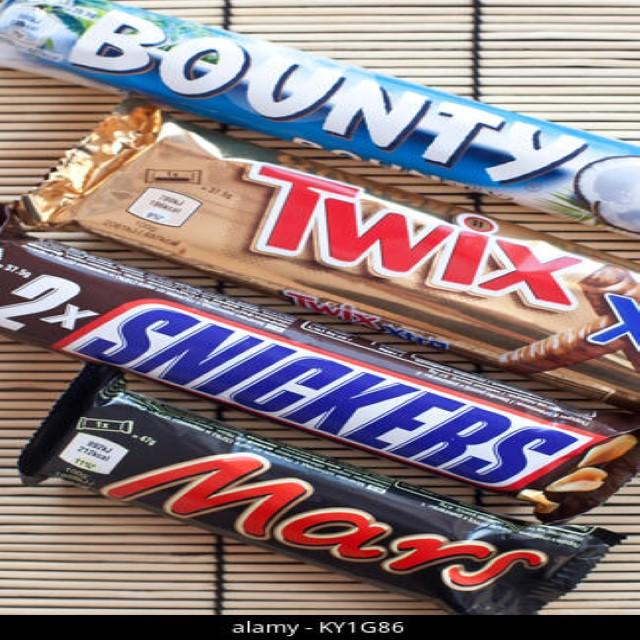mars_chocolate: (32, 383, 583, 613)
snickers_chocolate: (10, 230, 625, 495)
